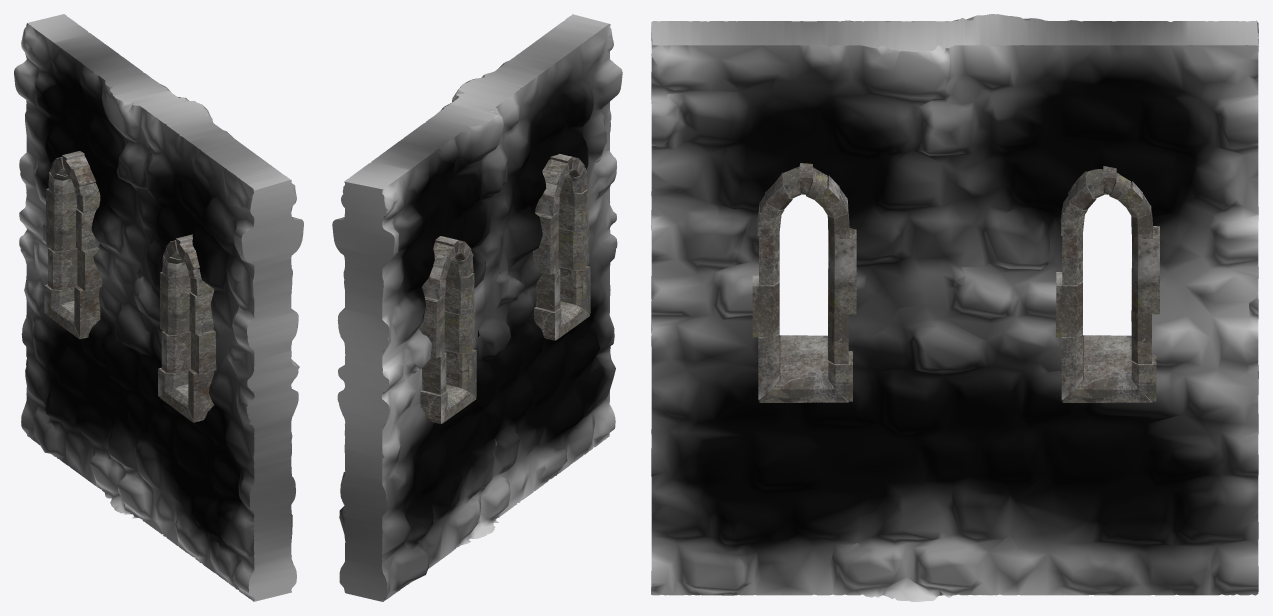
Rendered from SM_CastleTower_Window_A_09.fbx.
3 views of the same model, side by side, from view 1: azimuth 30°, elevation 25°; view 2: azimuth 150°, elevation 25°; view 3: azimuth 270°, elevation 25° (orthographic). The views are drawn at different scales.
Parts seen in each view (by area): view 1: SM_CastleTower_Window_A_09_LOD0; view 2: SM_CastleTower_Window_A_09_LOD0; view 3: SM_CastleTower_Window_A_09_LOD0.
Part boxes in pixels (left/top/right/bottom): SM_CastleTower_Window_A_09_LOD0: left=14, top=14, right=303, bottom=601; SM_CastleTower_Window_A_09_LOD0: left=332, top=14, right=622, bottom=601; SM_CastleTower_Window_A_09_LOD0: left=651, top=14, right=1258, bottom=601.
Size of the model in its own units: 81.89 by 401 by 401.
